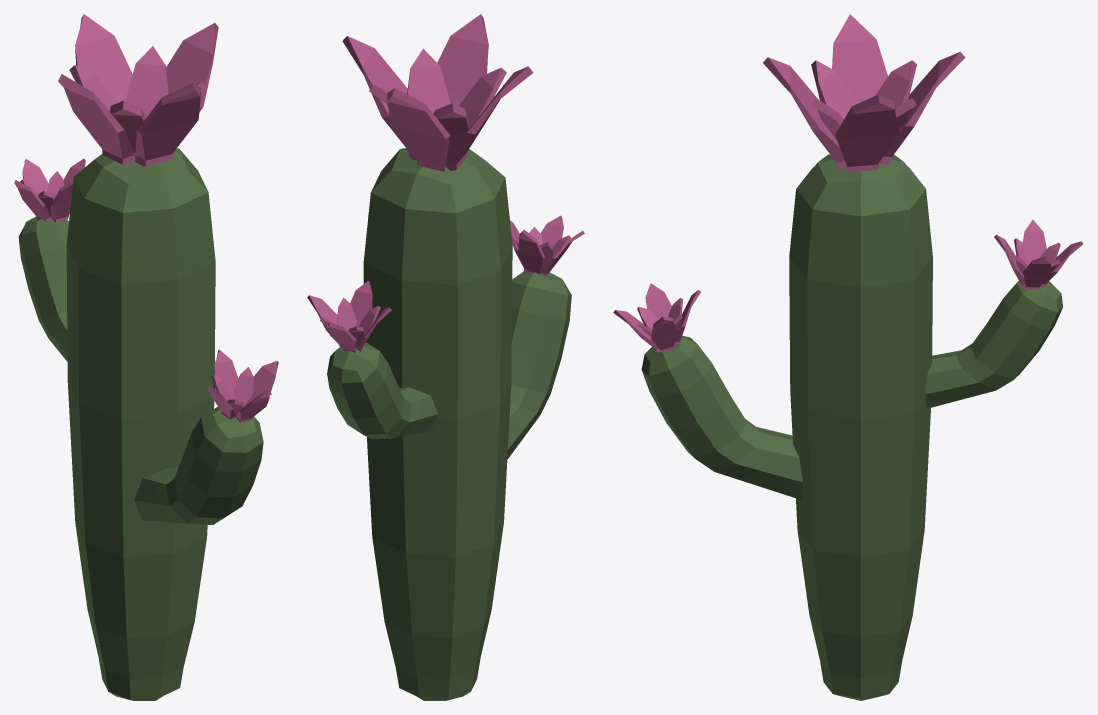
File: CactusFlowers_3.glb
3 views of the same model, side by side, from view 1: azimuth 30°, elevation 25°; view 2: azimuth 150°, elevation 25°; view 3: azimuth 270°, elevation 25° (orthographic).
Parts seen in each view (by area): view 1: CactusFlowers_3; view 2: CactusFlowers_3; view 3: CactusFlowers_3.
Boxes of the visible parts, x1,y1,x2,y2 form: CactusFlowers_3: (14, 14, 278, 700); CactusFlowers_3: (307, 14, 584, 700); CactusFlowers_3: (613, 14, 1083, 700).
Size of the model in its own units: 0.4774 by 1.67 by 1.12.
